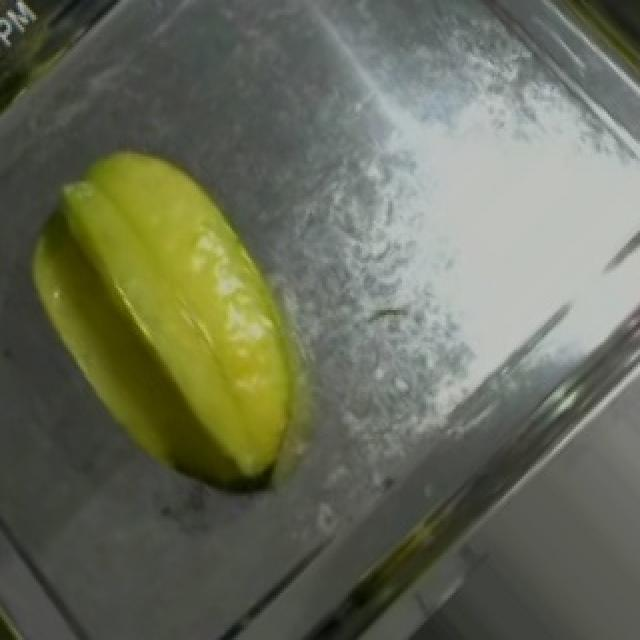fruit: (6, 107, 374, 506)
